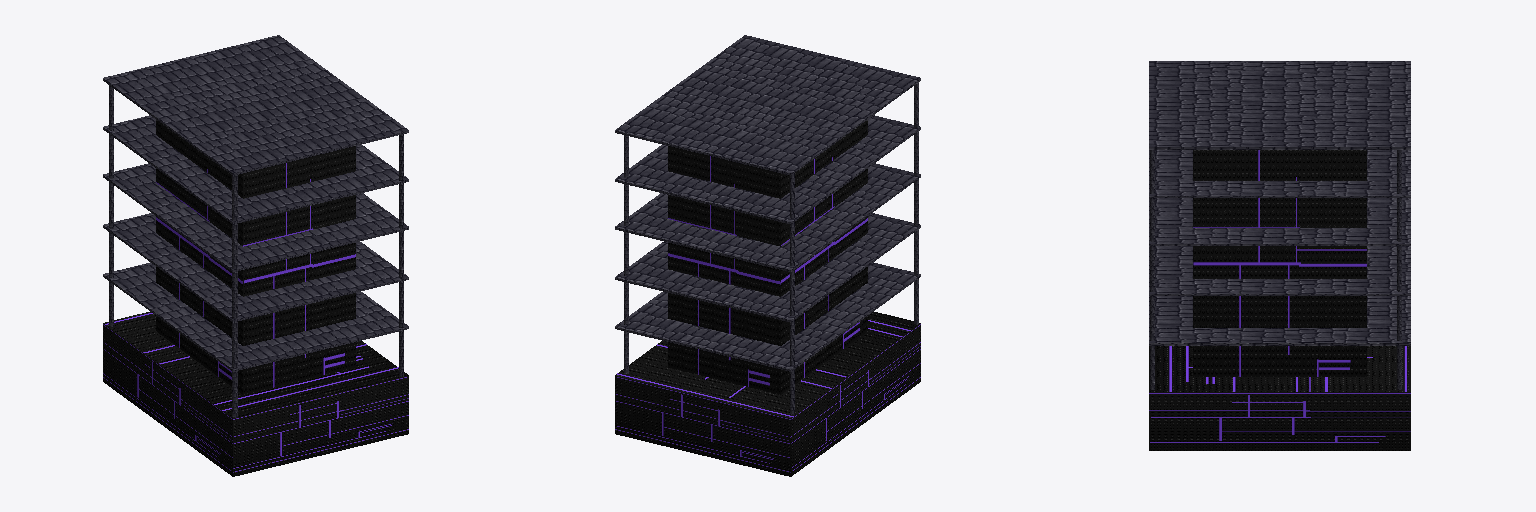
3 views of the same model, side by side, from view 1: azimuth 30°, elevation 25°; view 2: azimuth 150°, elevation 25°; view 3: azimuth 270°, elevation 25° (orthographic).
Parts seen in each view (by area): view 1: Box001, Box006, Box007, Box003, Box002, Box004, Box005; view 2: Box001, Box006, Box007, Box003, Box002, Box005, Box004; view 3: Box007, Box006, Box001, Box002, Box004, Box003, Box005.
Boxes of the visible parts, <box> form: Box001: <box>103,312,408,476</box>; Box006: <box>103,35,408,175</box>; Box007: <box>156,120,355,394</box>; Box003: <box>103,213,408,322</box>; Box002: <box>103,262,408,371</box>; Box004: <box>103,163,408,271</box>; Box005: <box>103,115,408,224</box>; Box001: <box>615,312,920,476</box>; Box006: <box>615,35,920,175</box>; Box007: <box>668,120,867,394</box>; Box003: <box>615,213,920,322</box>; Box002: <box>615,262,920,371</box>; Box005: <box>615,115,920,224</box>; Box004: <box>615,163,920,271</box>; Box007: <box>1193,150,1366,376</box>; Box006: <box>1149,61,1410,149</box>; Box001: <box>1149,346,1410,450</box>; Box002: <box>1149,296,1410,345</box>; Box004: <box>1149,198,1410,245</box>; Box003: <box>1149,246,1410,295</box>; Box005: <box>1149,150,1410,197</box>.
Size of the model in its own units: 0.4798 by 0.7888 by 0.6149.
2 materials, 2 textured.